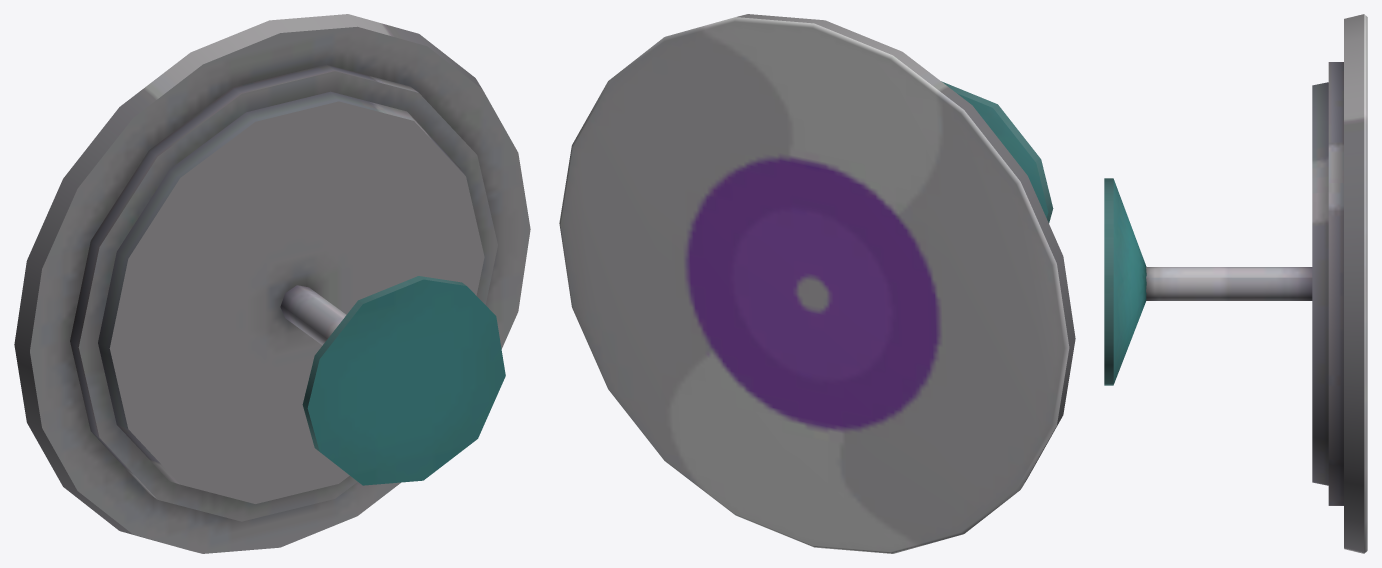
File: BoothTable.fbx
The picture shows the model from 3 angles, left to right: view 1: azimuth 30°, elevation 25°; view 2: azimuth 150°, elevation 25°; view 3: azimuth 270°, elevation 25°; orthographic projection. The views are drawn at different scales.
Parts seen in each view (by area): view 1: BoothTable; view 2: BoothTable; view 3: BoothTable.
Part boxes in pixels (<box>): BoothTable: <box>14,14,530,553</box>; BoothTable: <box>559,14,1075,553</box>; BoothTable: <box>1104,14,1367,553</box>.
Bounding box in the file's own units: 128 × 126 × 61.13.
